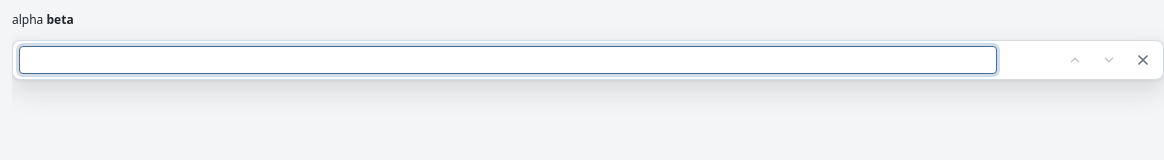
Scenario: FindBar › finds one phrase split across inline formatting nodes
Type "alpha beta" into the search field named "查找文本" at (508, 60), box [19,46,997,74]
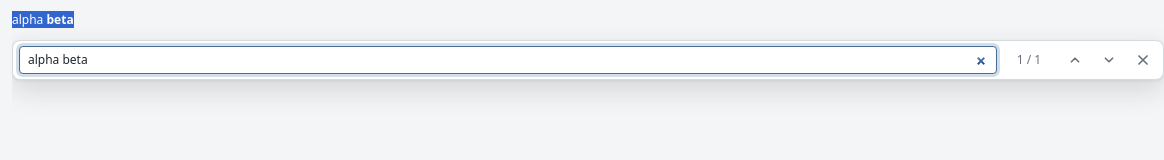
Check: the element showing "alpha beta" is shown, box [12,11,74,28]
Check: the text "1 / 1" is shown, box [1017,51,1041,68]
